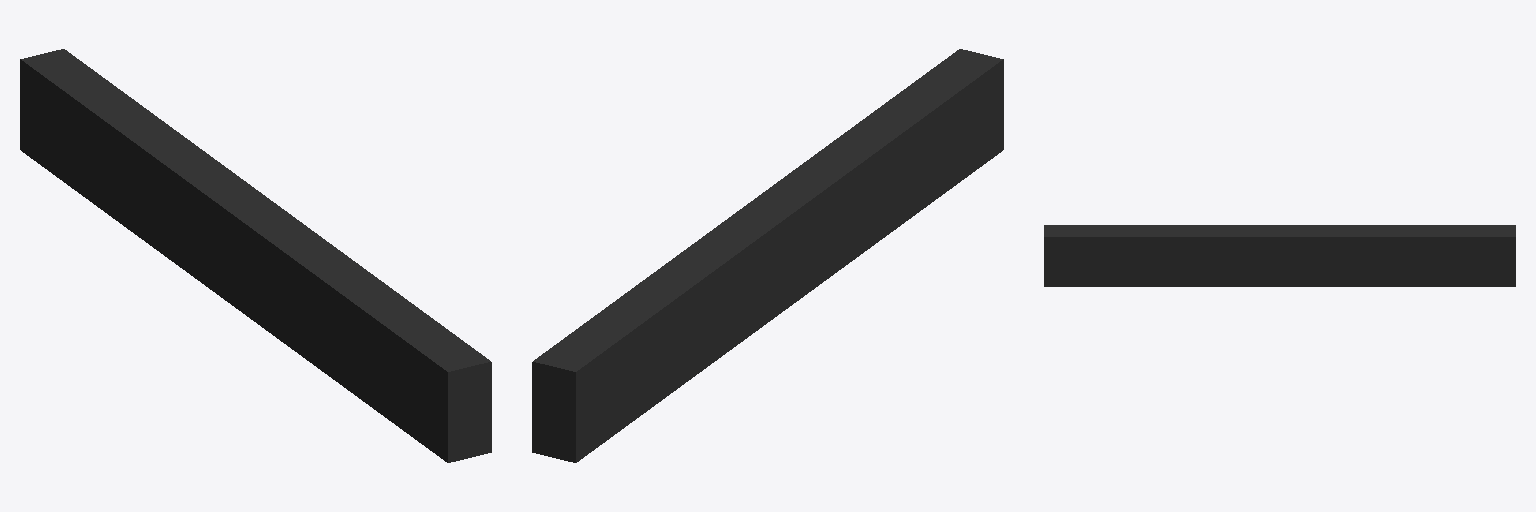
URDF robot description (wall):

<robot name="wall">
  <link name="baseLink">
   
    <inertial>
      <origin rpy="0 0 0" xyz="0 0 0" />
       <mass value="1000.0" />
       <inertia ixx="0" ixy="0" ixz="0" iyy="0" iyz="0" izz="0" />
    </inertial>
    <visual>
      <origin rpy="0 0 0" xyz="0 0 0" />
      <geometry>
			  <box size="1 17 2" />
      </geometry>
       <material name="grey">
        <color rgba="0.24 0.24 0.24 1" />
      </material>
    </visual>
    <collision>
      <origin rpy="0 0 0" xyz="0 0 0" />
      <geometry>
	 	      <box size="1 17 2" />
      </geometry>
    </collision>
  </link>
</robot>

--- Render facts (derived) ---
3 views of the same robot in one strip: view 1: azimuth 30°, elevation 25°; view 2: azimuth 150°, elevation 25°; view 3: azimuth 270°, elevation 25° (orthographic).
Model wall with 1 links and 0 joints (none), rooted at baseLink, posed all joints at 0.
Visible links, largest first — view 1: baseLink; view 2: baseLink; view 3: baseLink.
Link boxes in pixels (bbox=[...]): baseLink: bbox=[20, 49, 491, 462]; baseLink: bbox=[532, 49, 1003, 462]; baseLink: bbox=[1044, 225, 1515, 286].
Size in the robot's own frame: 1 by 17 by 2 metres.
Geometry: primitives only (box / cylinder / sphere), no mesh files.